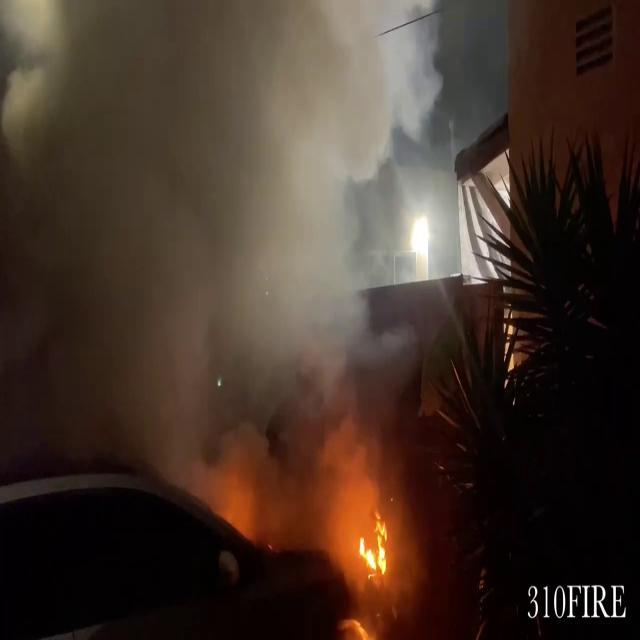Fire: (354, 511, 392, 582)
Smoke: (0, 0, 424, 553)
